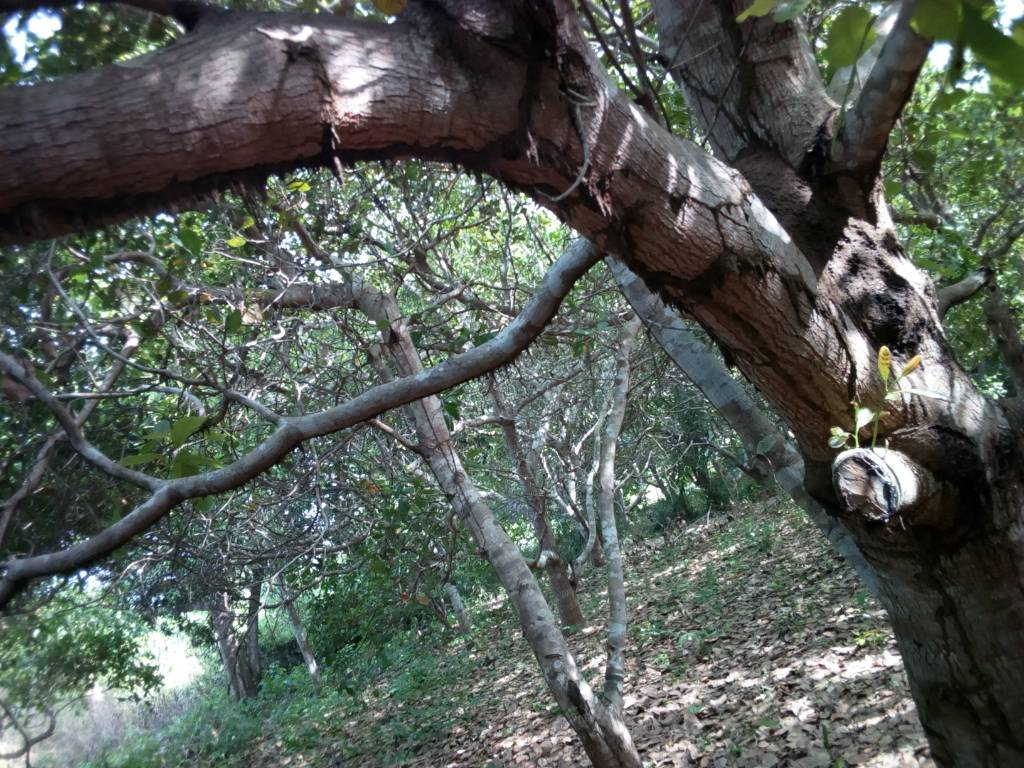Termites: (17, 112, 618, 235), (672, 214, 831, 357), (843, 221, 935, 354)
